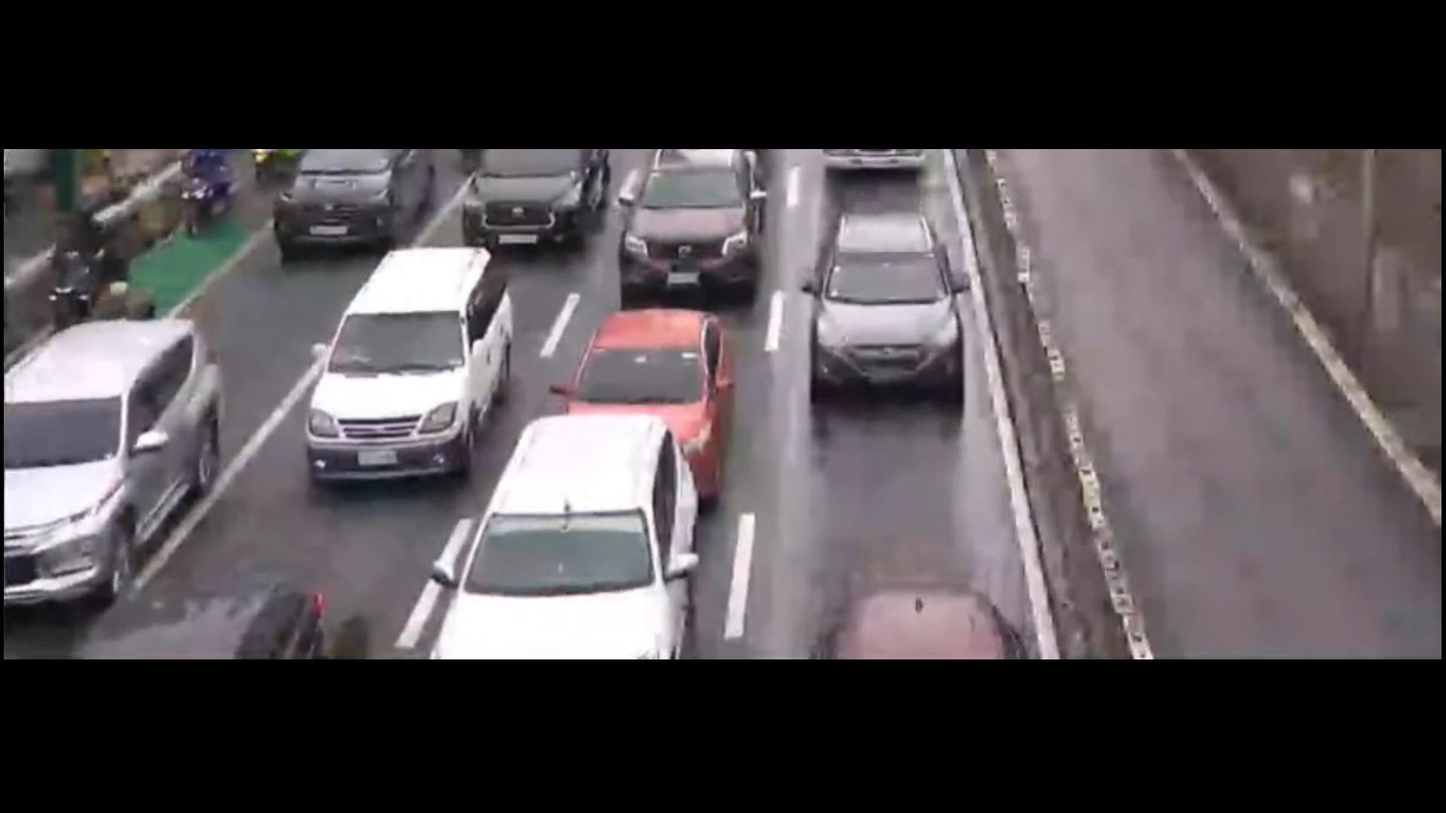Motorcycle: (36, 194, 149, 317), (157, 134, 260, 241)
SUV: (408, 416, 738, 656), (0, 309, 245, 612), (794, 187, 979, 424), (604, 134, 782, 304)
Sedan: (523, 292, 763, 483)
Van: (285, 217, 518, 516)
